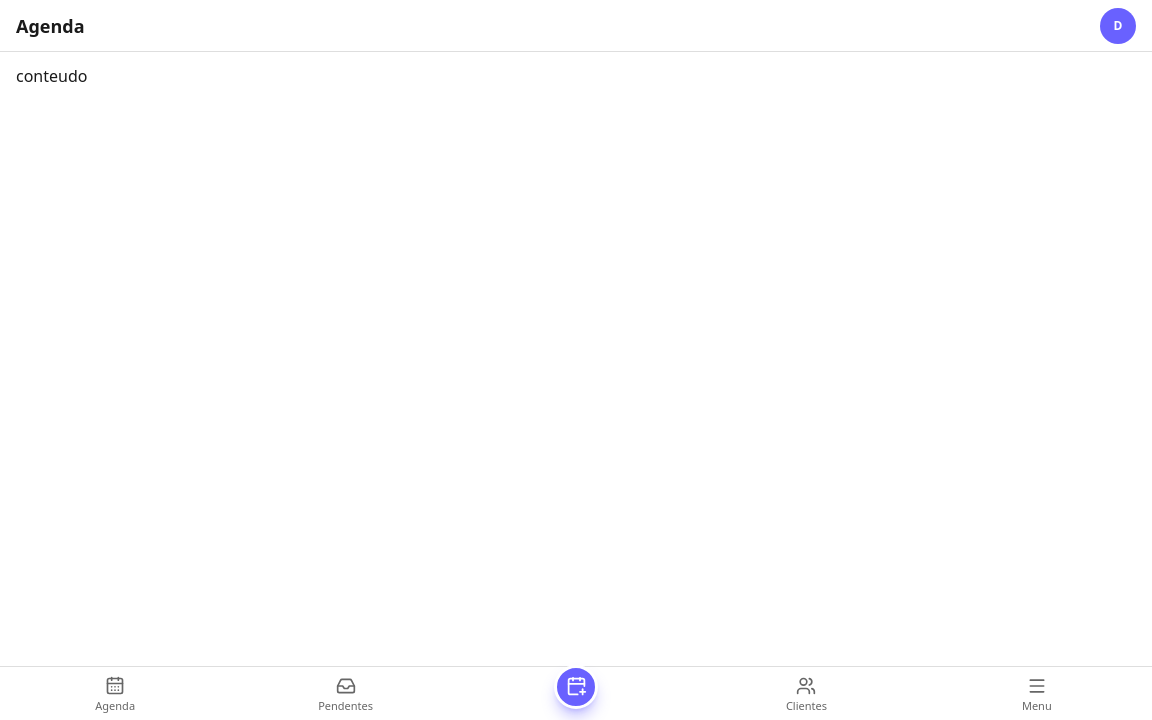
Test: AppShell › mobile: barra fixa (Agenda·Pendentes·FAB·Clientes·Menu); módulos vão pro drawer
Expected: the navigation bar named "inferior" is shown, [0, 666, 1151, 719]
Expected: the button named "novo agendamento" is shown, [554, 664, 598, 708]
Note: Menu abre o drawer (esquerda) com Configurações + Perfil.
Click the button with aria-label "abrir menu" at (1037, 695), box [922, 676, 1151, 714]
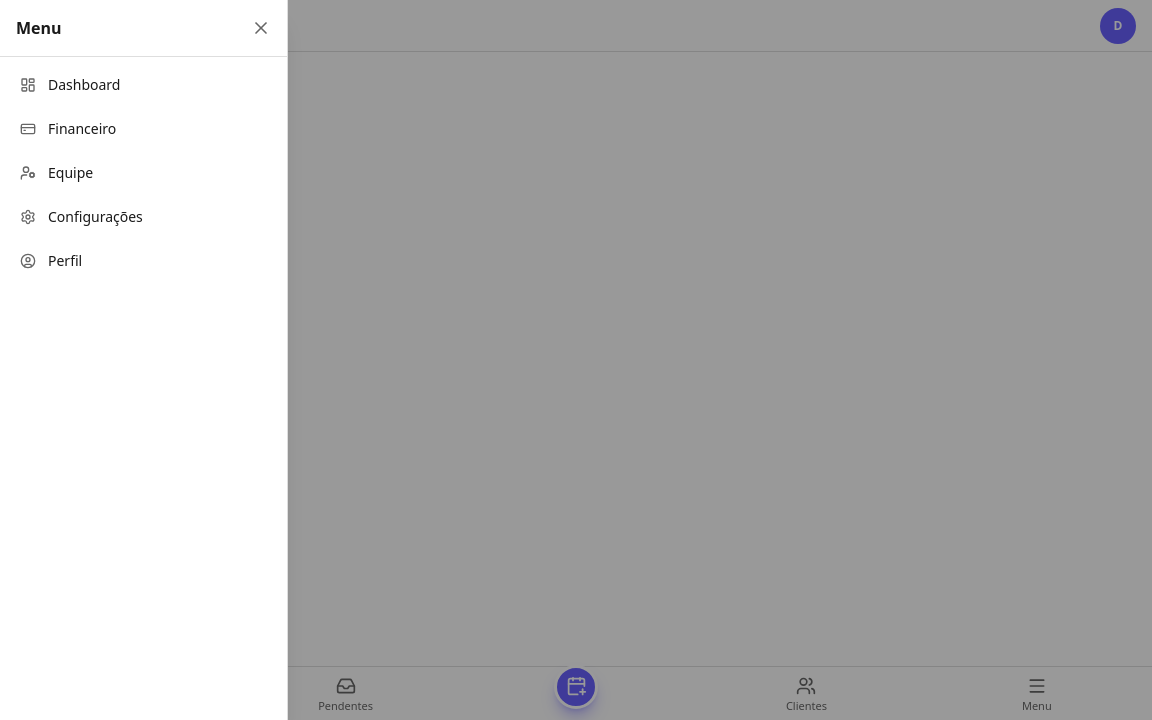
Now the button "Configurações" is shown, box [8, 197, 279, 237]
Now the button "Perfil" is shown, box [8, 241, 279, 281]
